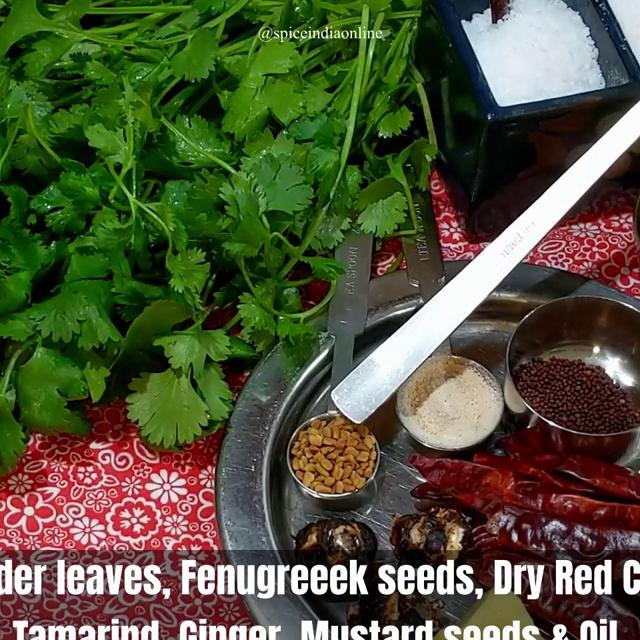cilantro: (0, 0, 376, 408)
